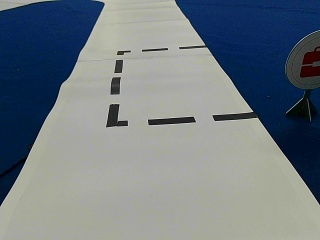company: (285, 31, 320, 88)
